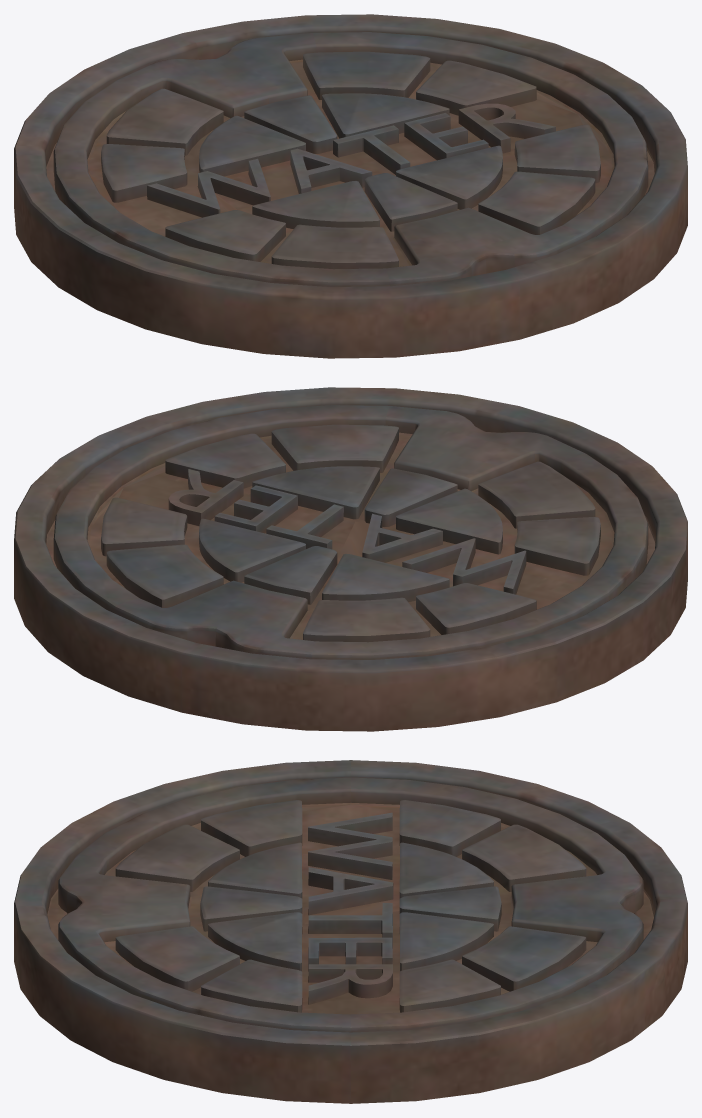
Rendered from water_manhole_cover.glb.
The picture shows the model from 3 angles, top to bottom: view 1: azimuth 30°, elevation 25°; view 2: azimuth 150°, elevation 25°; view 3: azimuth 270°, elevation 25°; orthographic projection.
Parts seen in each view (by area): view 1: water_manhole_cover; view 2: water_manhole_cover; view 3: water_manhole_cover.
Boxes of the visible parts, bbox=[...] form: water_manhole_cover: bbox=[14, 14, 687, 358]; water_manhole_cover: bbox=[14, 387, 687, 731]; water_manhole_cover: bbox=[14, 760, 687, 1103].
Bounding box in the file's own units: 0.6908 × 0.0676 × 0.6908.
Materials: 1 (1 with a texture image).
